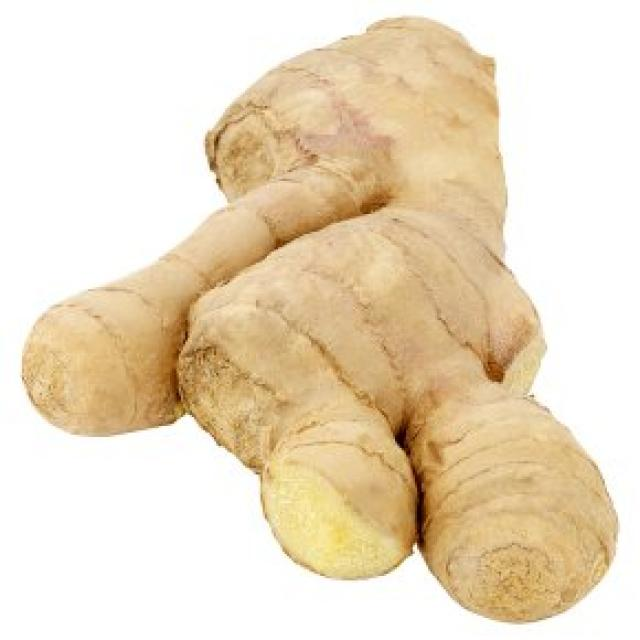ginger-root: (4, 0, 629, 629)
